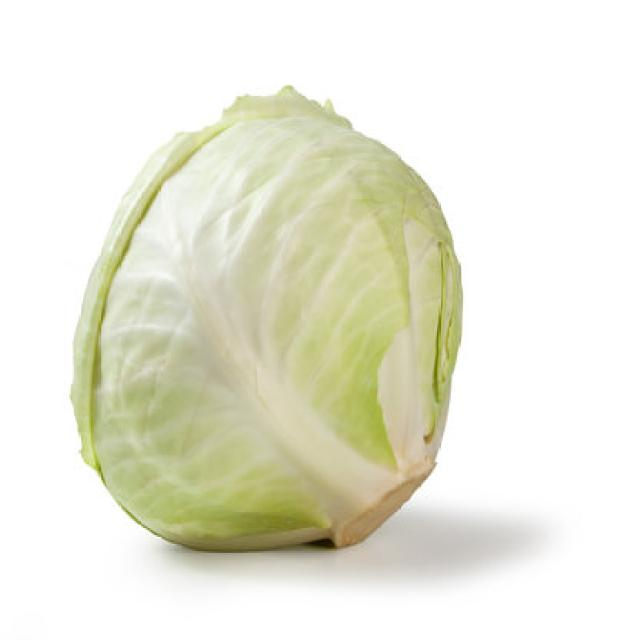Cabbage: (69, 82, 463, 553)
